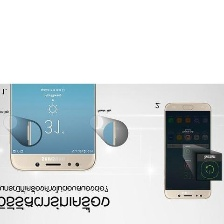phone: (6, 26, 100, 175), (159, 100, 214, 204)
